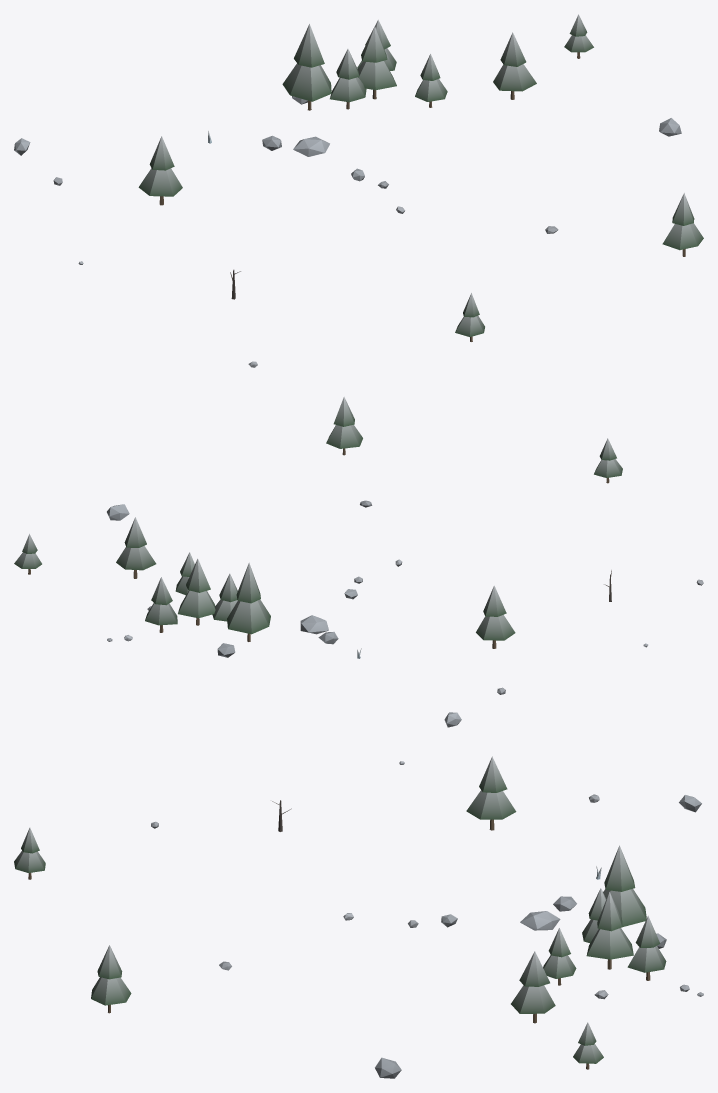
The model's file is frost_land_scatter_c18_13_lod1.glb.
3 views of the same model, one above another, from view 1: azimuth 30°, elevation 25°; view 2: azimuth 150°, elevation 25°; view 3: azimuth 270°, elevation 25° (orthographic). The views are drawn at different scales.
Parts seen in each view (by area): view 1: frost_land_scatter_c18_13_lod1; view 2: frost_land_scatter_c18_13_lod1; view 3: frost_land_scatter_c18_13_lod1.
Boxes of the visible parts, x1,y1,x2,y2 form: frost_land_scatter_c18_13_lod1: (14,14,703,367); frost_land_scatter_c18_13_lod1: (14,396,703,727); frost_land_scatter_c18_13_lod1: (14,756,703,1078).
Bounding box in the file's own units: 96.59 × 18.05 × 90.23.
